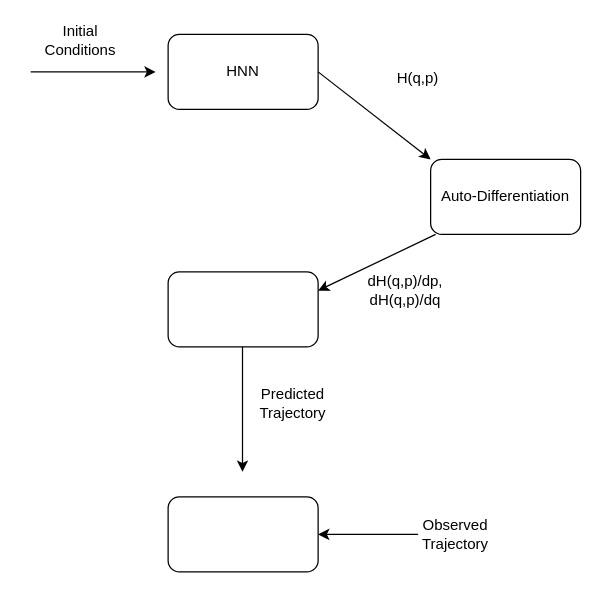
The diagram is 603 pixels wide and 594 high, and some of its shapes have lost their labels. The centre of each missing label's shape, as x and y in pixels:
"Loss" belongs at point (242, 534).
"ODESolve(f,t,x)" belongs at point (242, 309).
